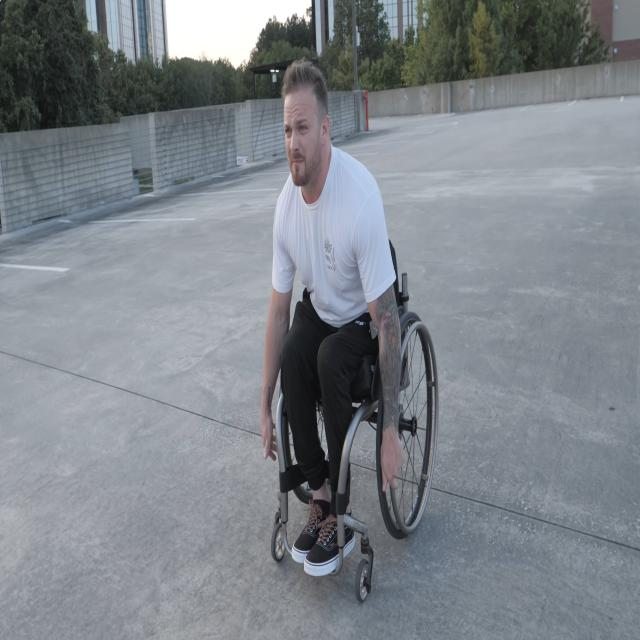wheelchairs: (269, 225, 439, 609)
